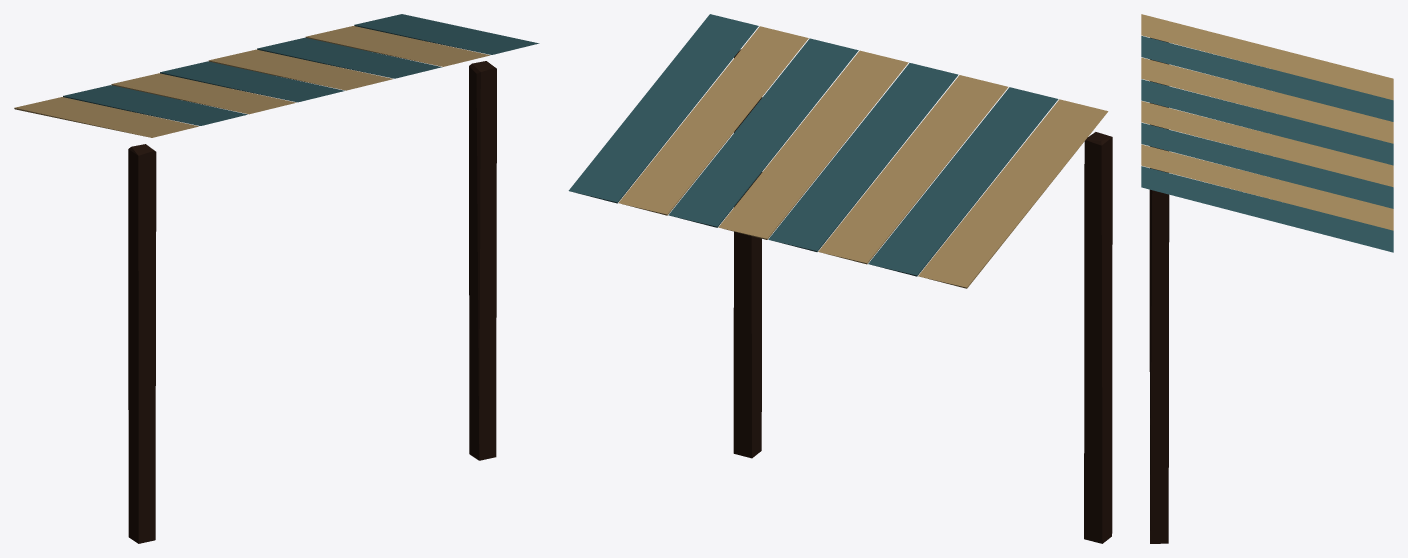
The model's file is Toldo_de_fachada_LOD1.fbx.
3 renders of one model, left to right at view 1: azimuth 30°, elevation 25°; view 2: azimuth 150°, elevation 25°; view 3: azimuth 270°, elevation 25°, orthographic. The views are drawn at different scales.
Visible parts, largest first — view 1: Toldo_de_fachada_LOD1; view 2: Toldo_de_fachada_LOD1; view 3: Toldo_de_fachada_LOD1.
Boxes of the visible parts, x1,y1,x2,y2 form: Toldo_de_fachada_LOD1: [14, 14, 539, 543]; Toldo_de_fachada_LOD1: [568, 14, 1112, 543]; Toldo_de_fachada_LOD1: [1141, 14, 1393, 543].
Bounding box in the file's own units: 233 × 229 × 140.
1 material, 1 textured.
